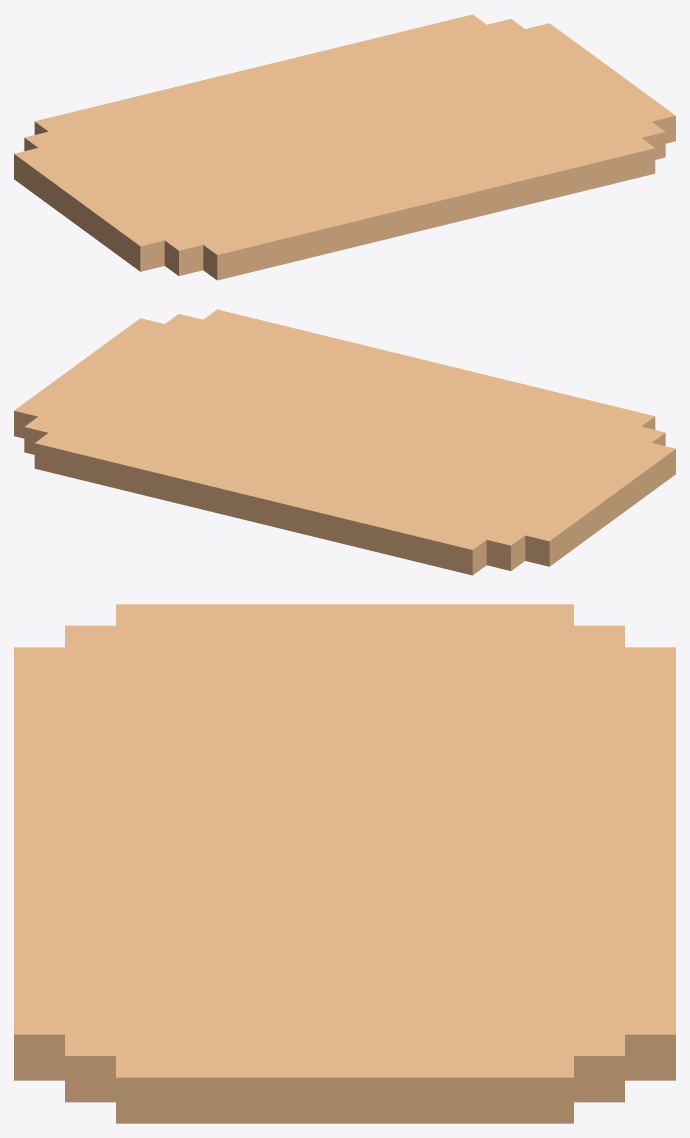
Rendered from carpet_small.obj.
3 views of the same model, one above another, from view 1: azimuth 30°, elevation 25°; view 2: azimuth 150°, elevation 25°; view 3: azimuth 270°, elevation 25° (orthographic). The views are drawn at different scales.
Size of the model in its own units: 2.2 by 0.1 by 1.3.
1 material, 1 textured.
